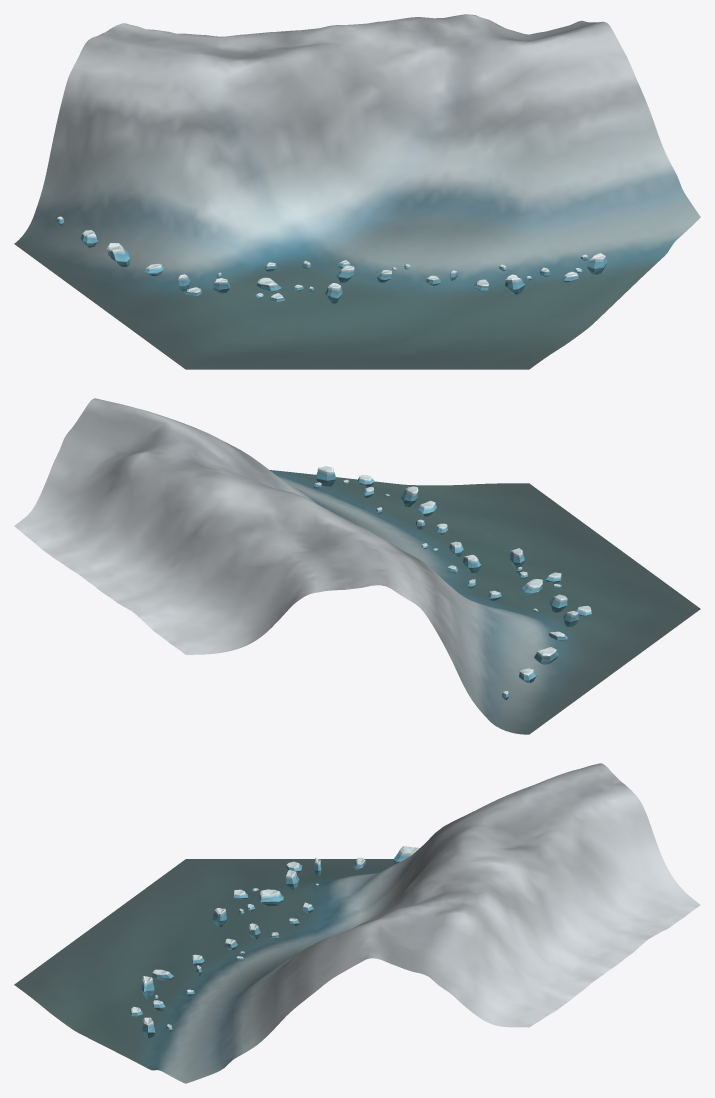
The model's file is costa_+00_-05.glb.
3 views of the same model, one above another, from view 1: azimuth 30°, elevation 25°; view 2: azimuth 150°, elevation 25°; view 3: azimuth 270°, elevation 25° (orthographic).
Parts seen in each view (by area): view 1: terrain, Formações costeiras; view 2: terrain, Formações costeiras; view 3: terrain, Formações costeiras.
Part boxes in pixels (x1,y1,x2,y2): terrain: [14, 14, 700, 369]; Formações costeiras: [56, 216, 607, 303]; terrain: [14, 398, 700, 734]; Formações costeiras: [313, 466, 591, 699]; terrain: [14, 763, 700, 1083]; Formações costeiras: [130, 846, 419, 1038].
Size of the model in its own units: 4330 by 1262 by 5000.
Materials: 1 (1 with a texture image).
